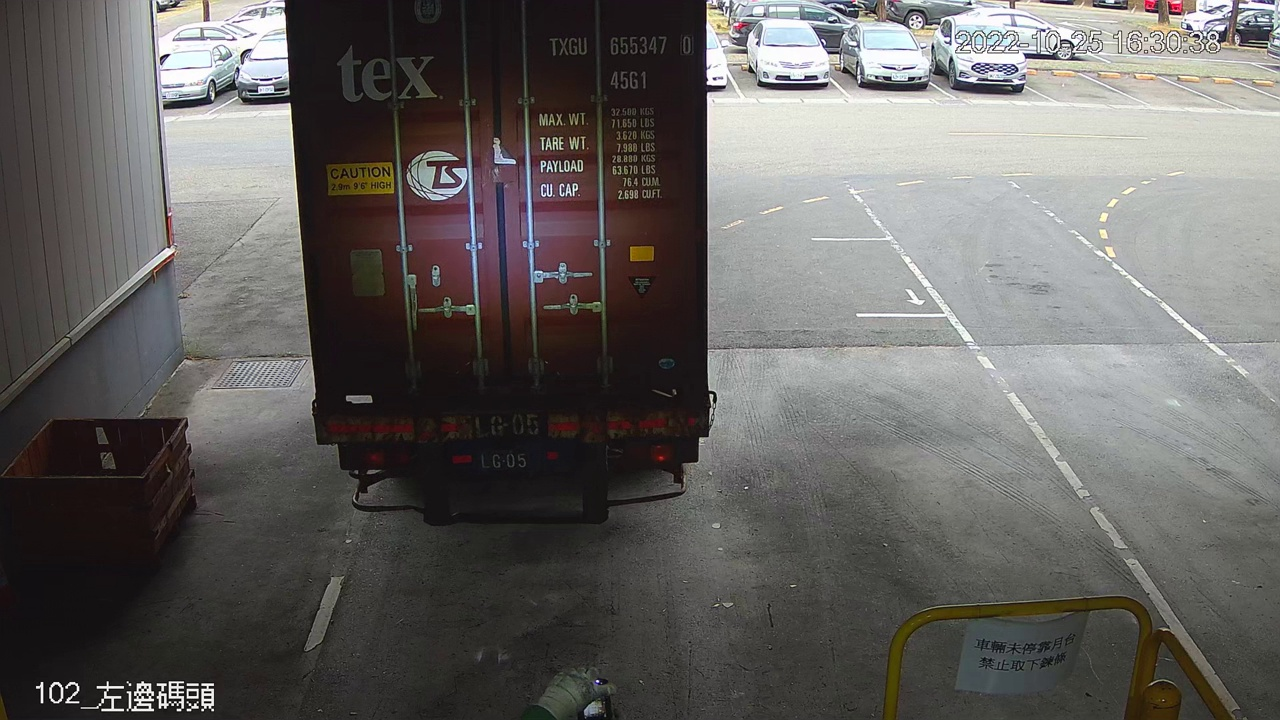container: (545, 49, 729, 119)
